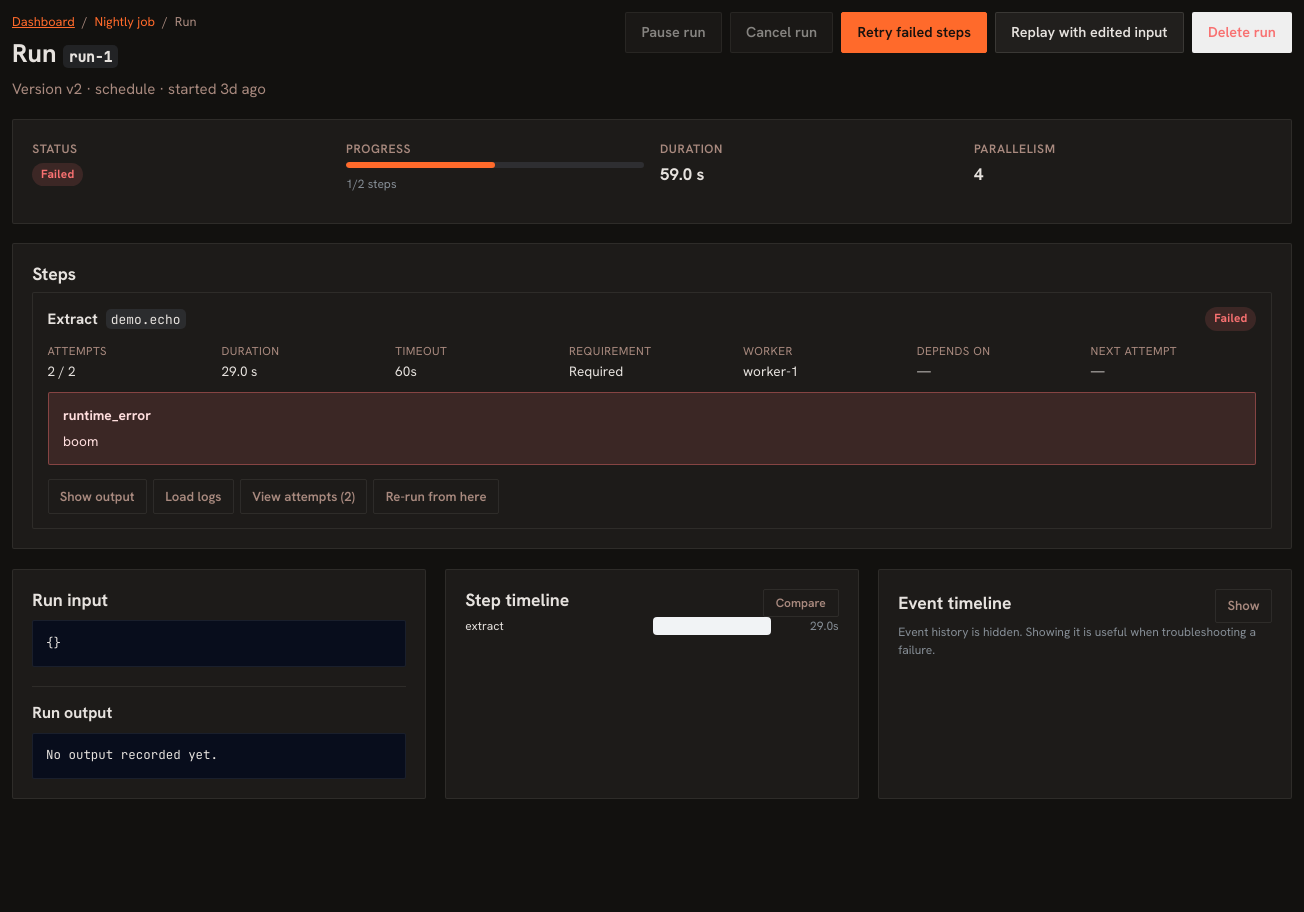
Test: RunDetailPage › loads the attempt history for a step
Check: the text "Extract" is shown, box [48,308,98,328]
Click the button "View attempts (2)".
click(304, 497)  # box [240,479,367,514]
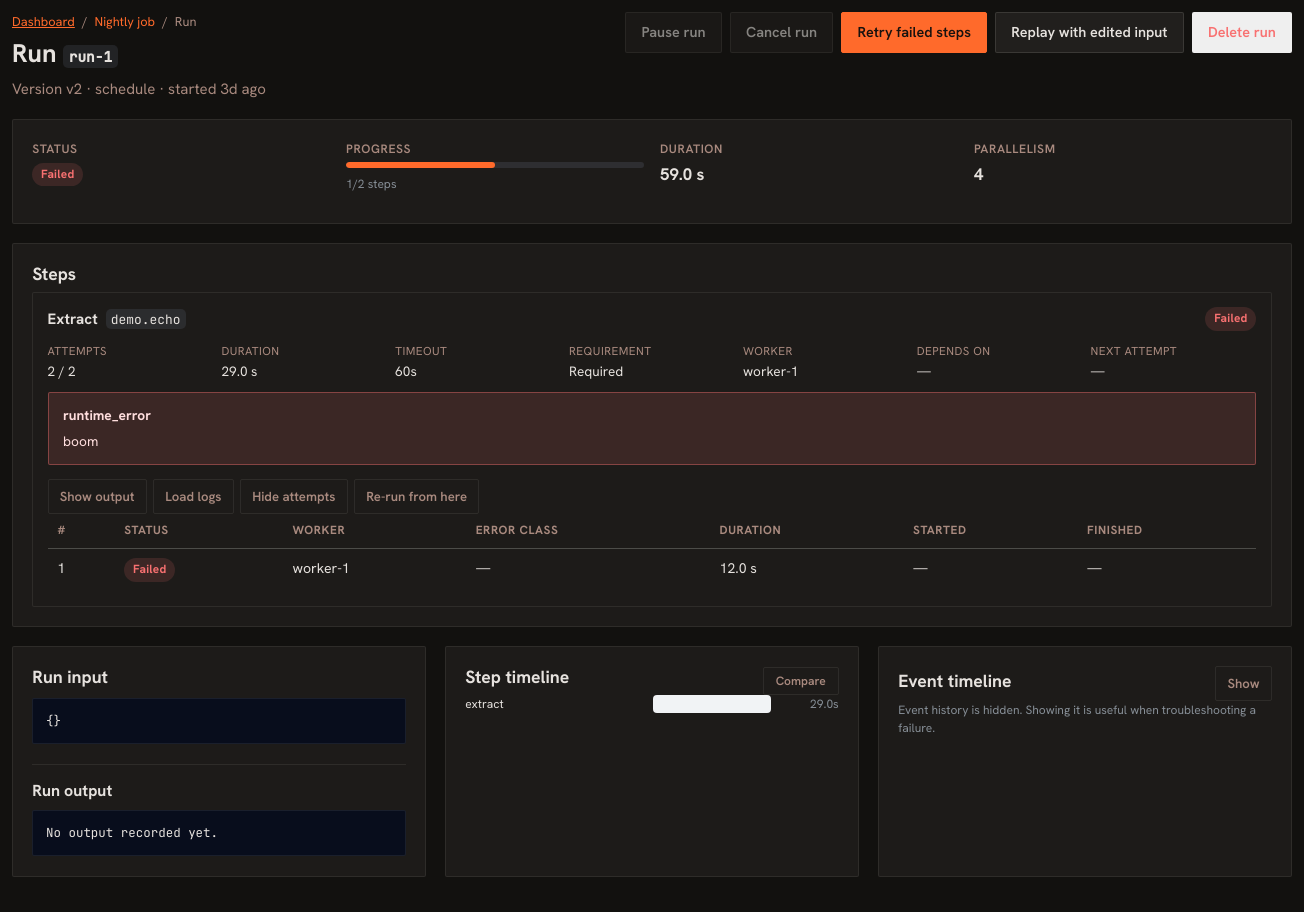
Check: the table named "Attempt history for extract" is shown, box [48,514,1256,592]
